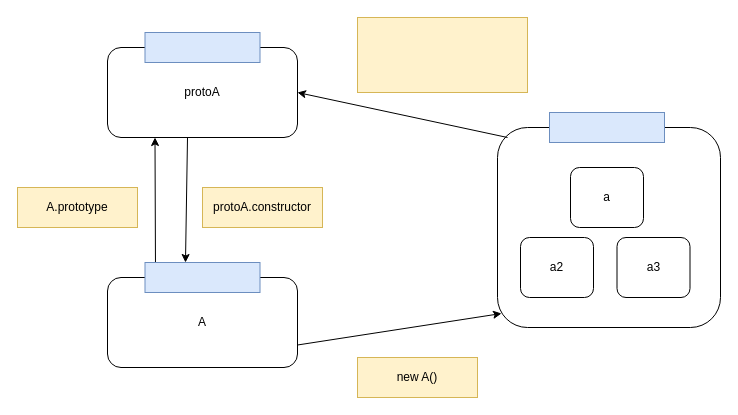
Some shapes in this 738 by 415 pixel diagram are drawn without their labels. Each missing label, with the centre of its shape:
"constructor" belongs at (202,277).
"instance" belongs at (606,127).
"Object.getPrototypeOf(a) a.__proto__" belongs at (442,54).
"prototype" belongs at (202,47).
